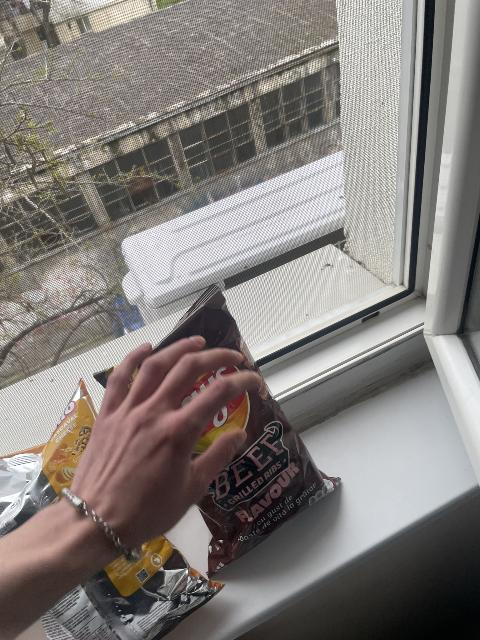Chio Cascaval 125g: (1, 375, 225, 638)
Lays Beef Grilled Ribs 125g: (97, 289, 337, 557)
